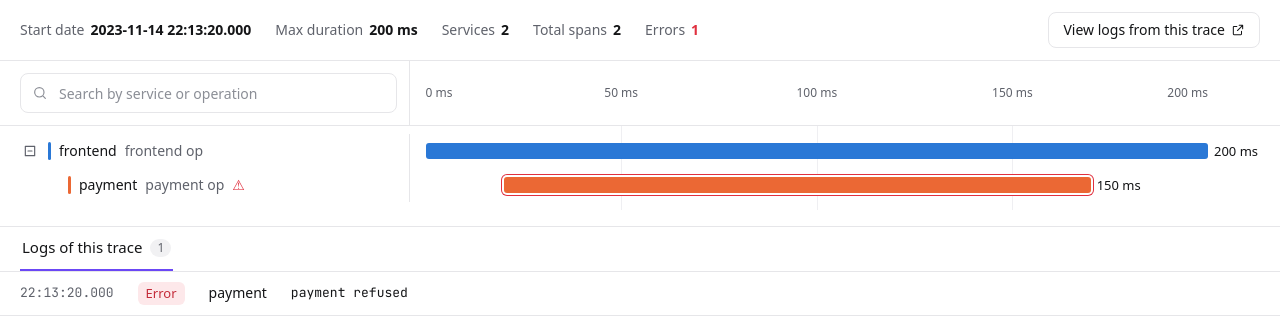
Test: spans can be collapsed and searched
This screenshot has width=1280, height=333.
Click the button with class "toggle" at (30, 151), box [20, 141, 40, 161]
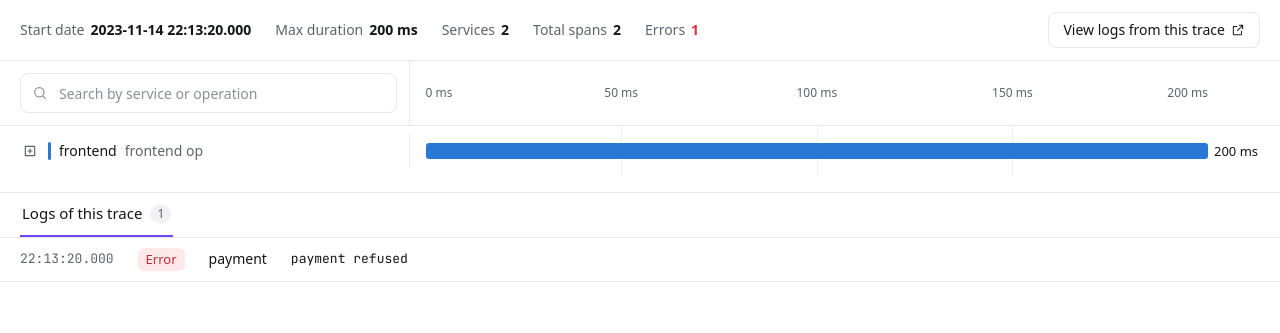
Expected: the number of elements with class "span-row" is 1, [0, 134, 1279, 168]
Click the button with class "toggle" at (30, 151), box [20, 141, 40, 161]
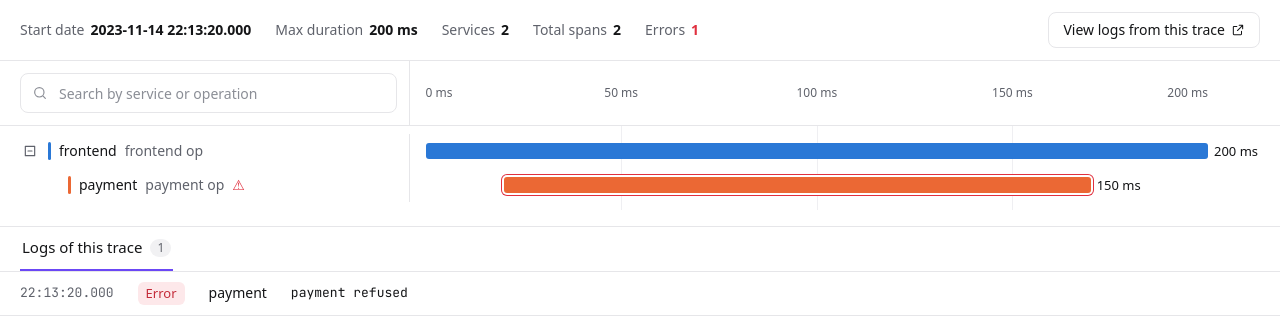
Expected: the number of elements with class "span-row" is 2, [0, 134, 1279, 168]; [0, 168, 1279, 202]
Type "frontend" into the field named "Search spans" at (208, 93), box [20, 73, 397, 113]
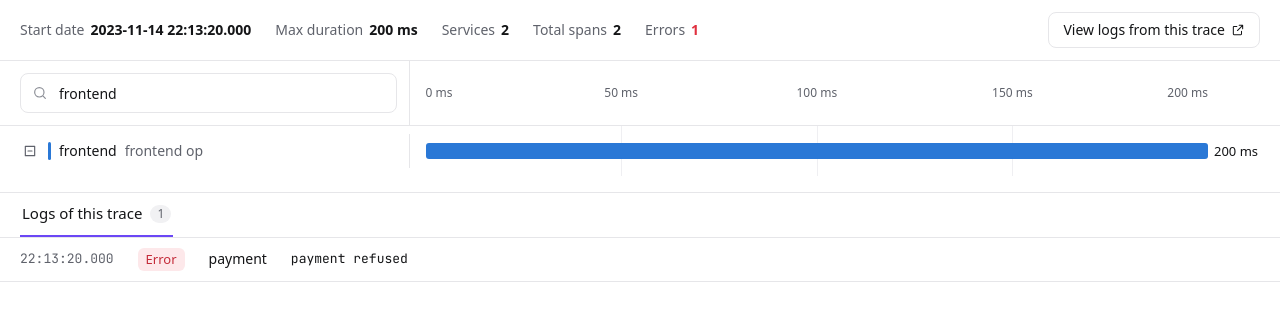
Expected: the number of elements with class "span-row" is 1, [0, 134, 1279, 168]
